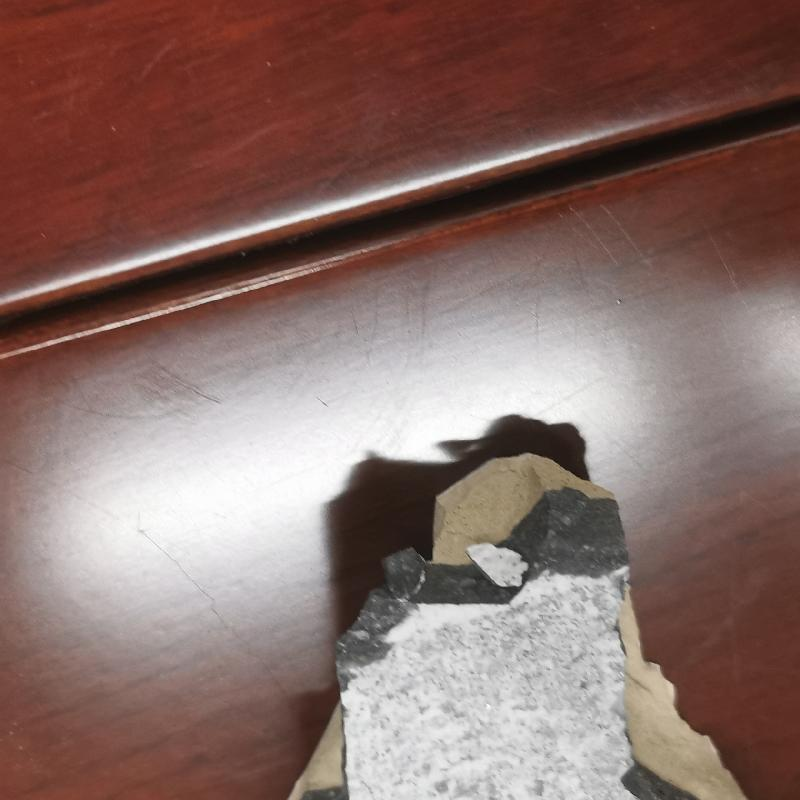tile: (267, 444, 800, 800)
